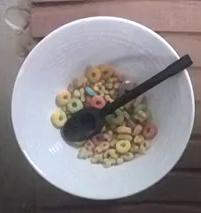cereal: (77, 95, 156, 166), (50, 64, 121, 126)
